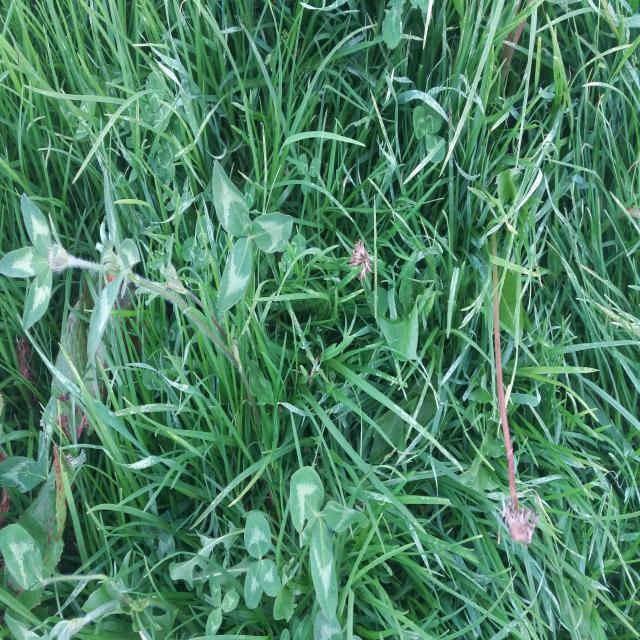Four Leaf Clover: (212, 159, 293, 312)
